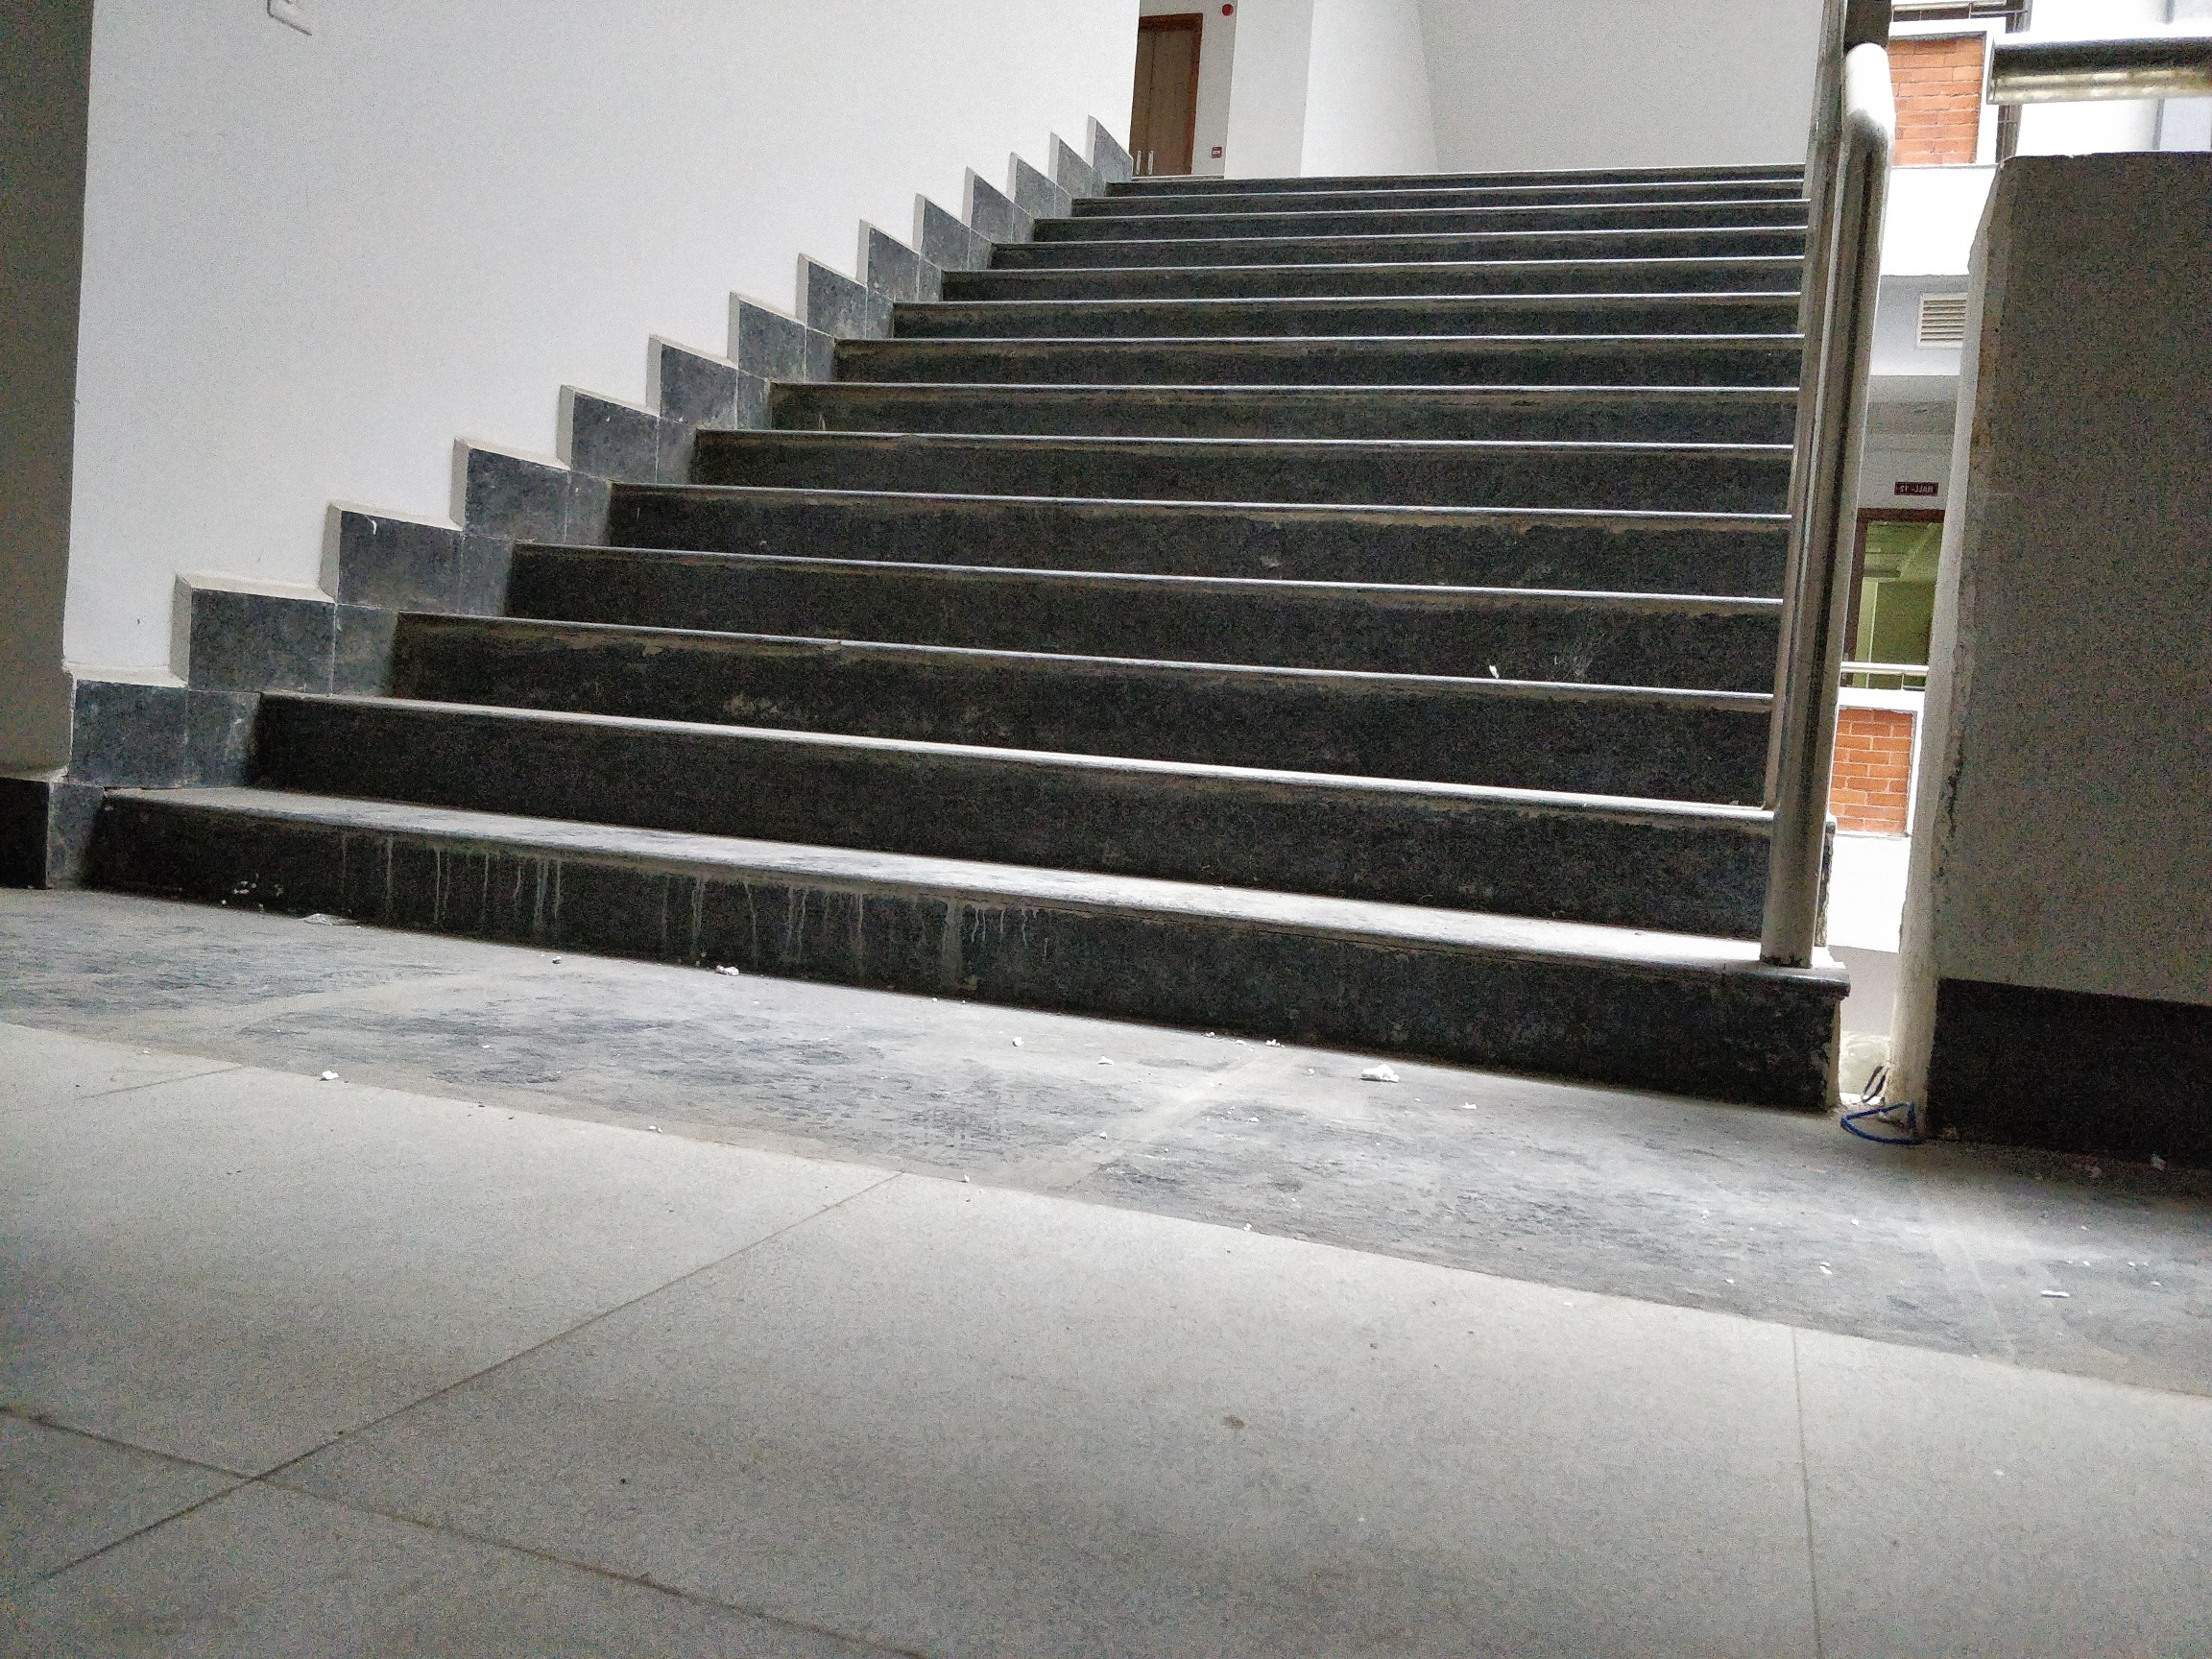stairs_up: (226, 166, 1820, 1030)
